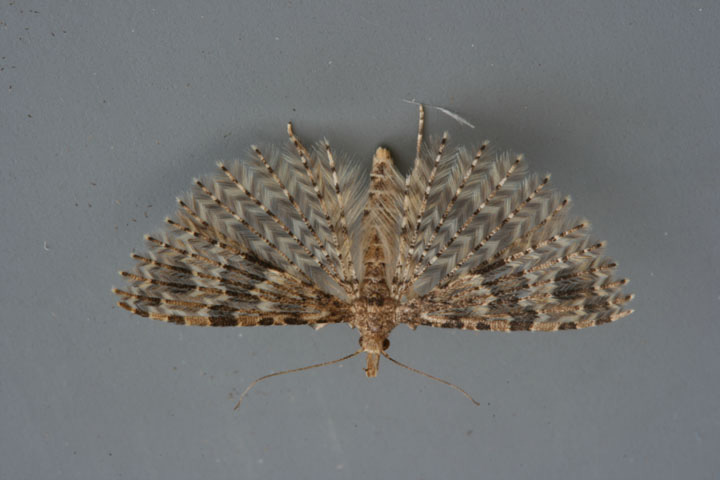Alucitidae: (105, 91, 646, 411)
moth: (107, 93, 648, 413)
